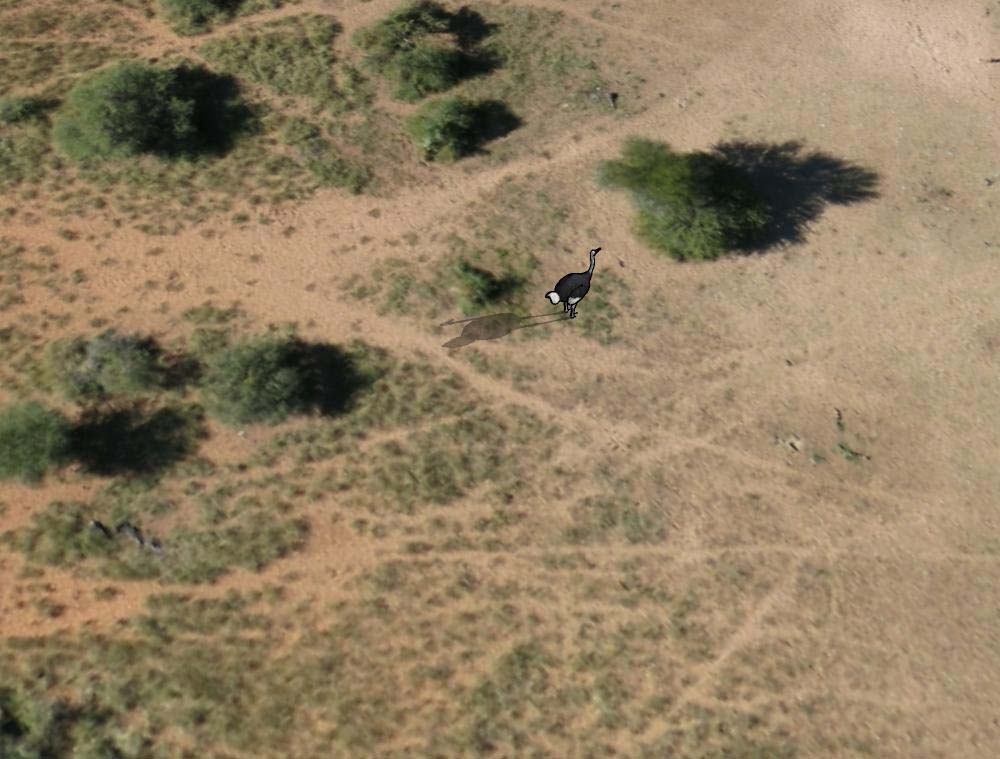springbok: (548, 246, 603, 320)
